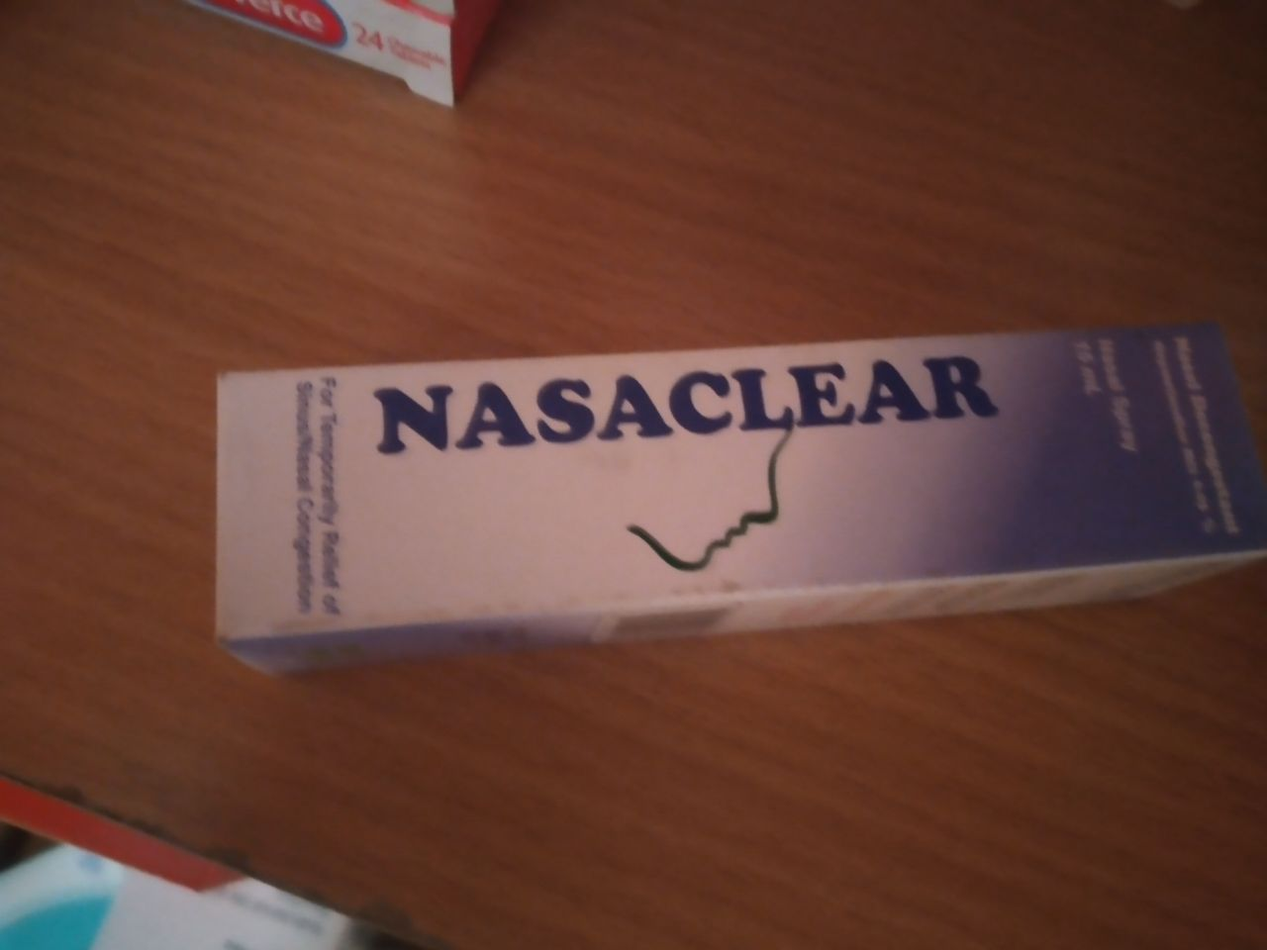Medicine: (208, 309, 1267, 670)
